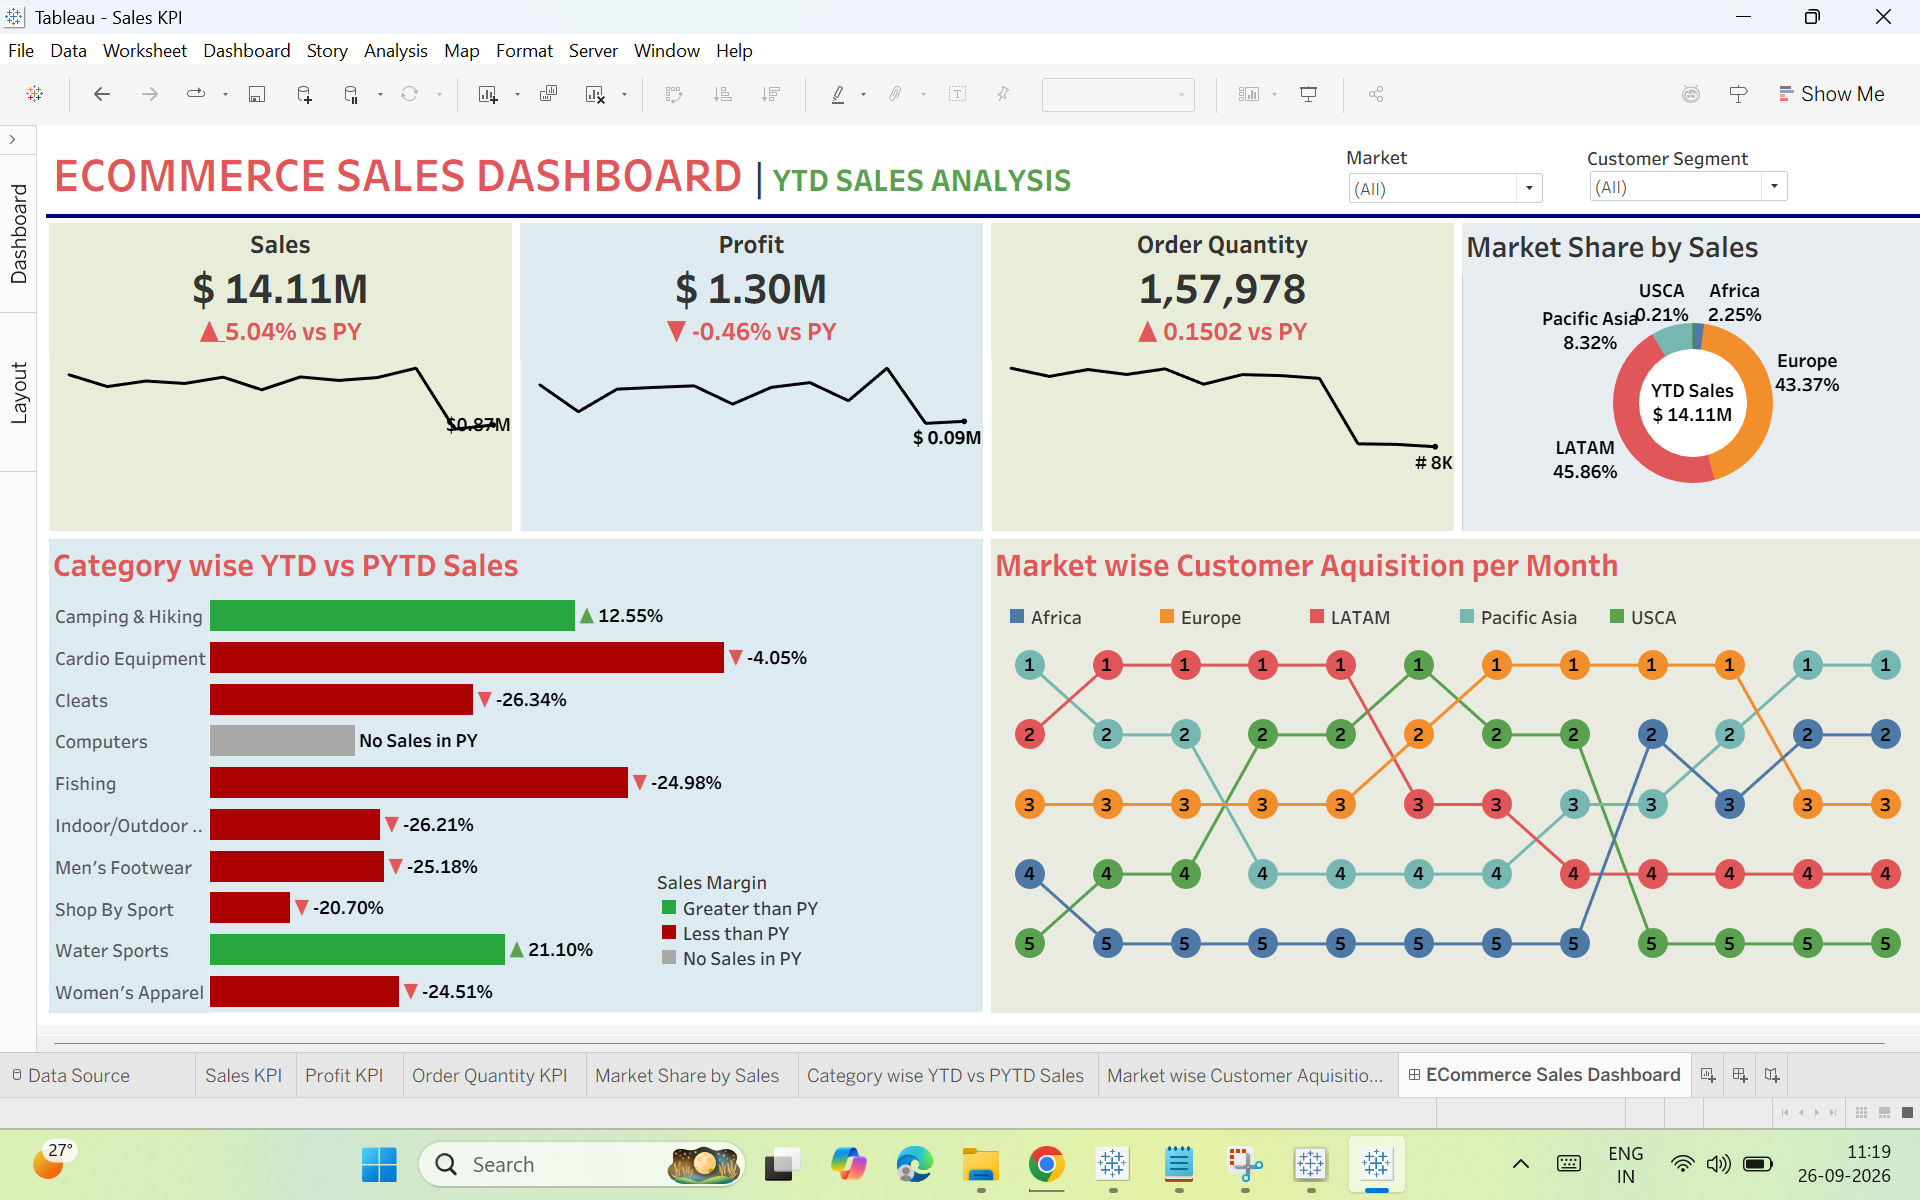

The page's visual inventory and layout, read from the dashboard file:
{"tool":"tableau","page":{"name":"ECommerce Sales Dashboard","canvas":[1600,850],"ordinal":0},"visuals":[{"type":"title","box":[8,8,1584,80]},{"type":"filter","title":"Sales KPI","param":"[federated.1csnagp14wpzwv147up7c1yr34nc].[none:Market:nk]","box":[1102,18,168,59]},{"type":"filter","title":"Sales KPI","param":"[federated.1csnagp14wpzwv147up7c1yr34nc].[none:Customer Segment:nk]","box":[1305,19,172,54]},{"type":"blank","box":[8,88,1584,6]},{"type":"worksheet","title":"Sales KPI","mark":"Automatic","rows":["Sales"],"cols":["Order Date"],"box":[8,94,396,293]},{"type":"worksheet","title":"Profit KPI ","mark":"Automatic","rows":["Profit Per Order"],"cols":["Order Date"],"box":[404,94,396,293]},{"type":"worksheet","title":"Order Quantity KPI","mark":"Automatic","rows":["Order Quantity"],"cols":["Order Date"],"box":[800,94,396,293]},{"type":"worksheet","title":"Market Share by Sales","mark":"Pie","cols":["Calculation_1680098867793934","Calculation_1680098867908624"],"box":[1196,94,396,293]},{"type":"worksheet","title":"Category wise YTD vs PYTD Sales","mark":"Automatic","rows":["Category Name"],"cols":["Calculation_1680098868617233"],"box":[8,386.9,792,455.1]},{"type":"worksheet","title":"Market wise Customer Aquisition per Month","mark":"Automatic","cols":["Order Date"],"box":[800,386.9,792,455.1]},{"type":"legend","title":"Market wise Customer Aquisition per Month","param":"[federated.1csnagp14wpzwv147up7c1yr34nc].[none:Market:nk]","box":[815,452,761,35]},{"type":"legend","title":"Category wise YTD vs PYTD Sales","param":"[federated.1csnagp14wpzwv147up7c1yr34nc].[usr:Calculation_1512423907237890:nk]","box":[522,703,167,101]}]}

Visuals, with their boxes on the page's 1600x850 design canvas (x1, y1, x2, y2). These are canvas units, not pixel positions in the 1920x1200 screenshot, which may show the page scaled, cropped or inside an application window:
title: [8, 8, 1592, 88]
"Sales KPI" filter: [1102, 18, 1270, 77]
"Sales KPI" filter: [1305, 19, 1477, 73]
blank: [8, 88, 1592, 94]
"Sales KPI" worksheet: [8, 94, 404, 387]
"Profit KPI " worksheet: [404, 94, 800, 387]
"Order Quantity KPI" worksheet: [800, 94, 1196, 387]
"Market Share by Sales" worksheet (Pie marks): [1196, 94, 1592, 387]
"Category wise YTD vs PYTD Sales" worksheet: [8, 387, 800, 842]
"Market wise Customer Aquisition per Month" worksheet: [800, 387, 1592, 842]
"Market wise Customer Aquisition per Month" legend: [815, 452, 1576, 487]
"Category wise YTD vs PYTD Sales" legend: [522, 703, 689, 804]
